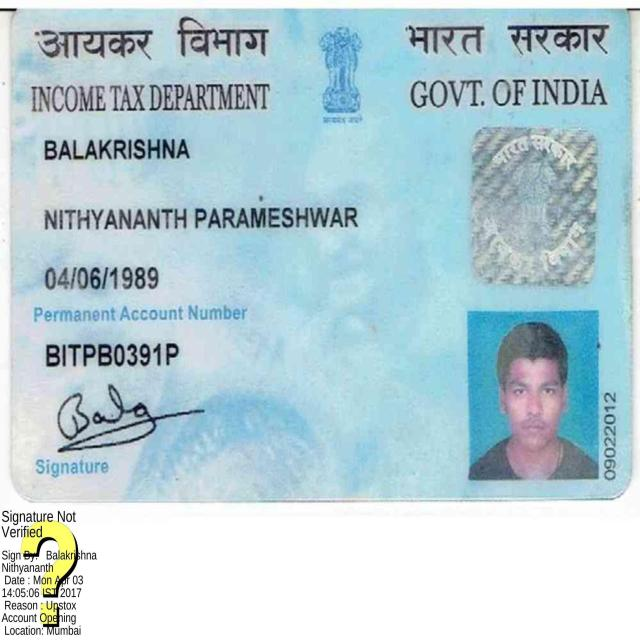pan_card: (15, 12, 620, 495)
